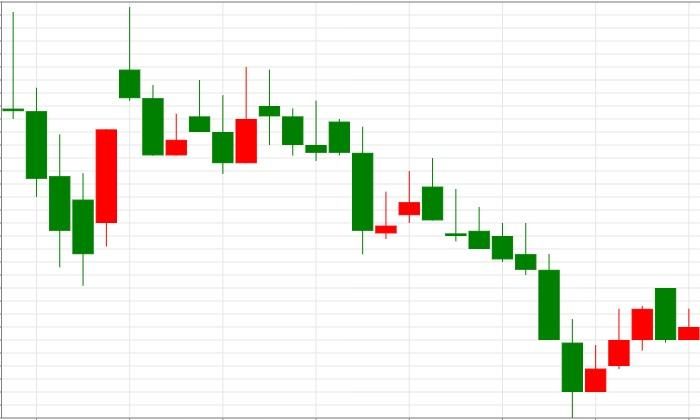bearish_engulfing_fall: (351, 126, 444, 255)
shooting_star_fall: (71, 7, 141, 286)
three_white_soldiers_rise: (421, 158, 654, 417)
